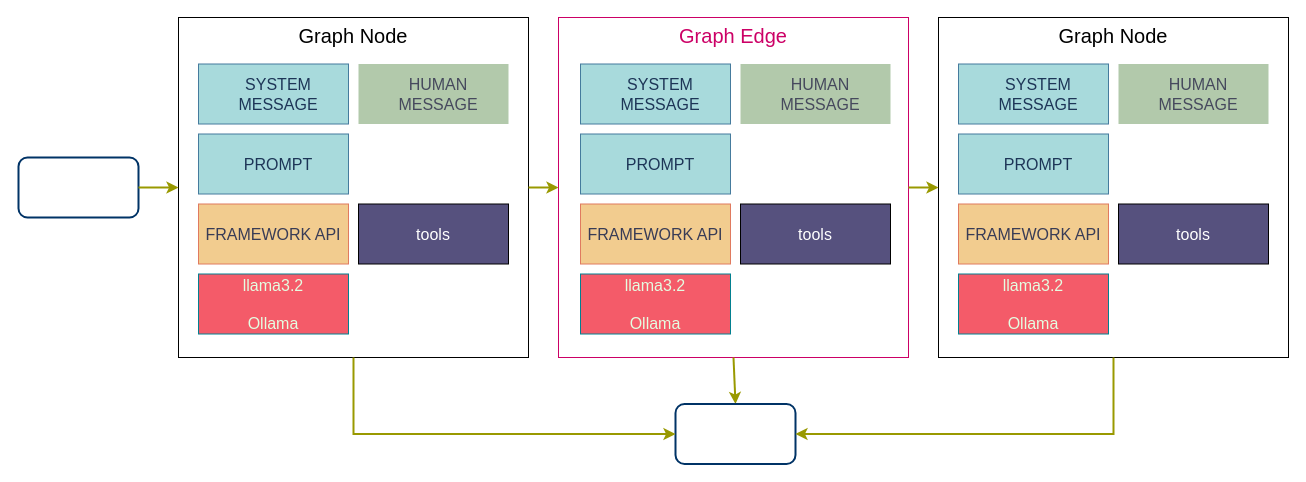
This 1306x482 diagram has some shape labels left out. Here are the shapes that lost their labels. From the top down, the centre of each, then its label:
At [78,187]: "START".
At [735,433]: "END".
